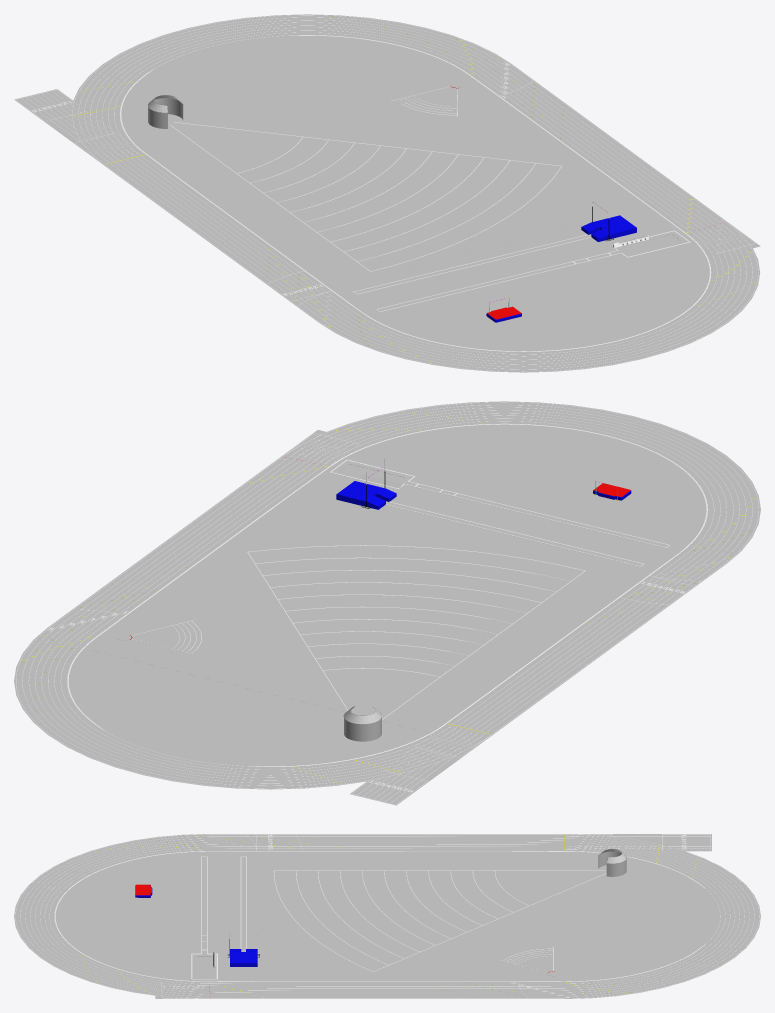
The model's file is TrackAndField.fbx.
3 renders of one model, top to bottom at view 1: azimuth 30°, elevation 25°; view 2: azimuth 150°, elevation 25°; view 3: azimuth 270°, elevation 25°, orthographic. The views are drawn at different scales.
Visible parts, largest first — view 1: TrackAndField, Grass, Discus, PoleVault; view 2: TrackAndField, Grass, Discus, PoleVault; view 3: TrackAndField, Grass, Discus, PoleVault, Sand.
Boxes of the visible parts, x1,y1,x2,y2 form: TrackAndField: (14, 14, 760, 372); Grass: (135, 66, 650, 286); Discus: (148, 95, 561, 271); PoleVault: (581, 194, 636, 241); TrackAndField: (14, 401, 760, 805); Grass: (84, 494, 641, 732); Discus: (247, 545, 585, 741); PoleVault: (336, 458, 396, 509); TrackAndField: (14, 834, 760, 998); Grass: (265, 851, 585, 981); Discus: (273, 849, 626, 971); PoleVault: (228, 929, 259, 966); Sand: (197, 956, 211, 976).
Bounding box in the file's own units: 9232 × 731 × 17668.
